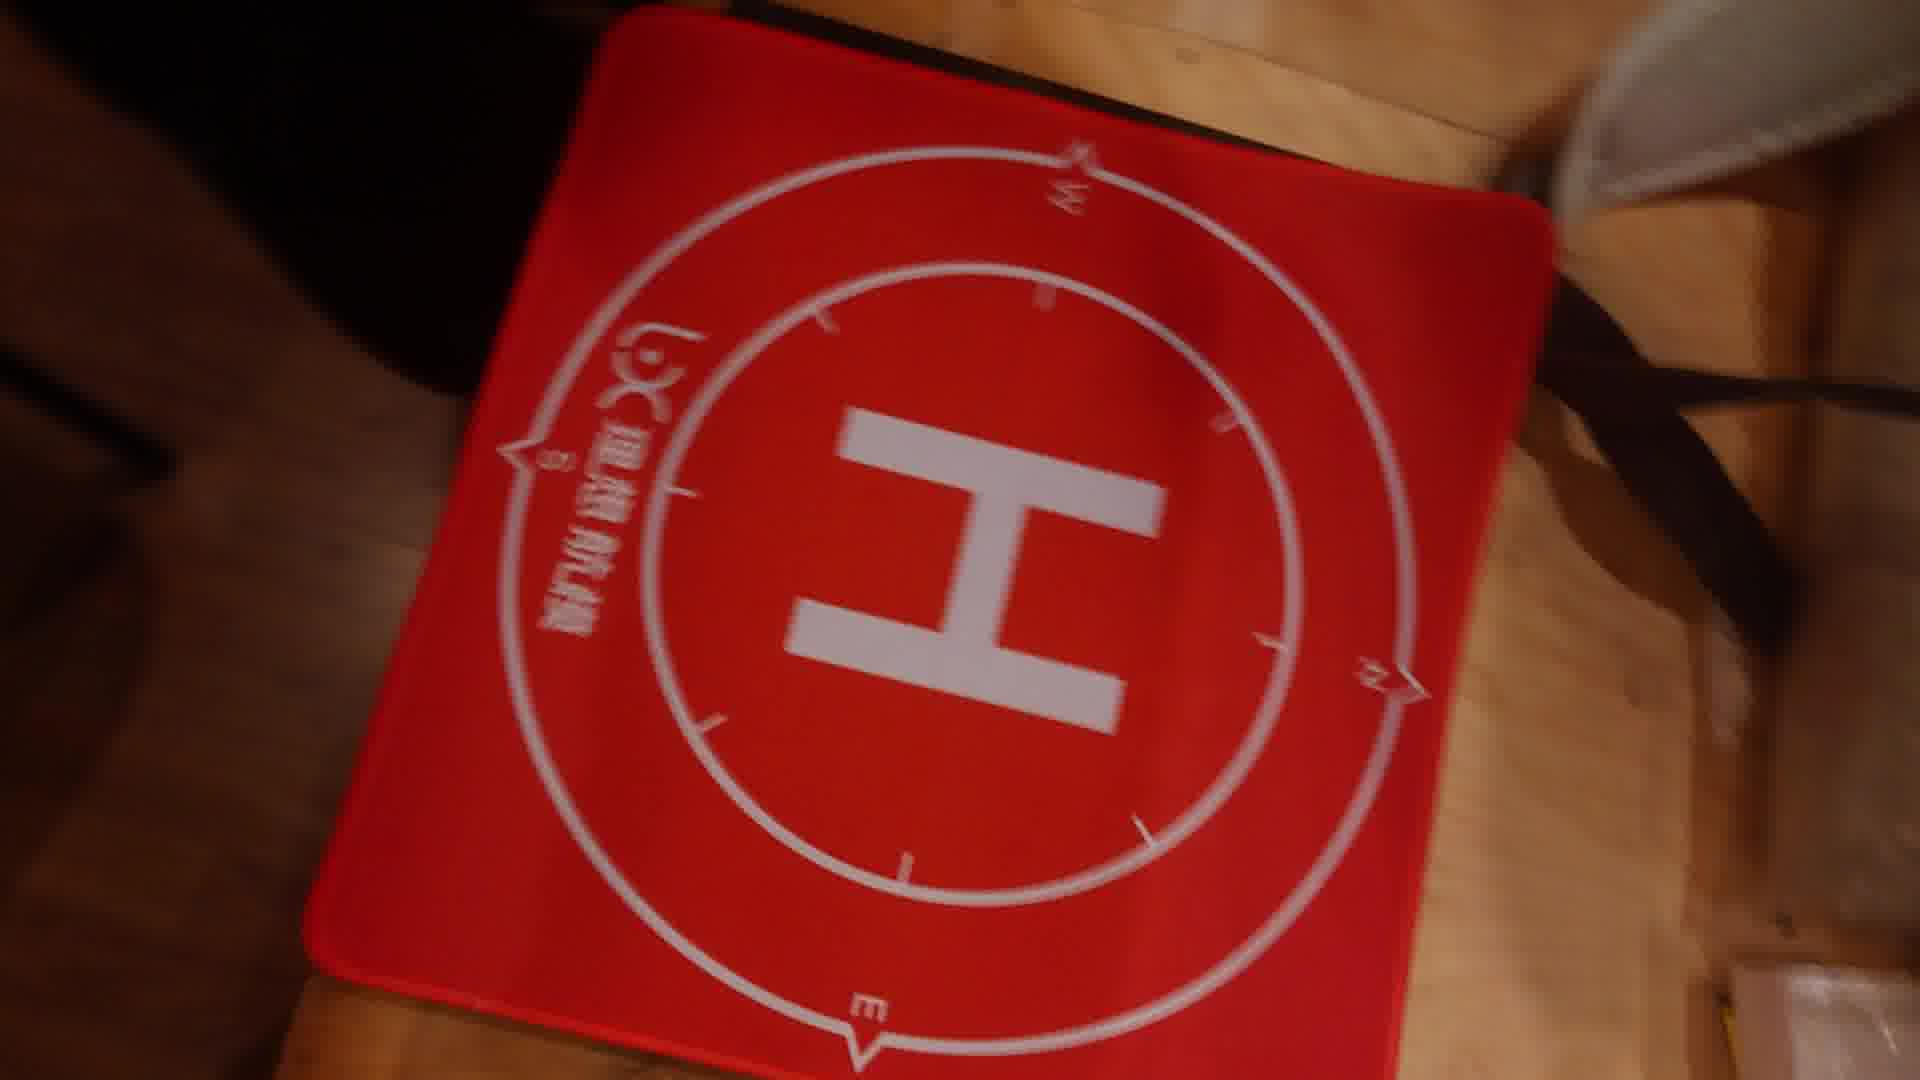H: (779, 400, 1171, 737)
